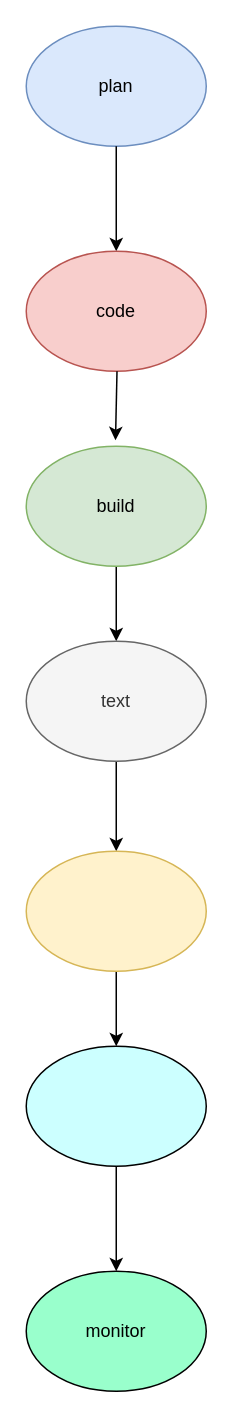
The diagram is 233 pixels wide and 1418 high, and some of its shapes have lost their labels. The box of each missing label's shape, as (x1, y1, x2, y2) in pixels:
operator: (25, 1045, 206, 1166)
realse: (25, 850, 206, 971)
